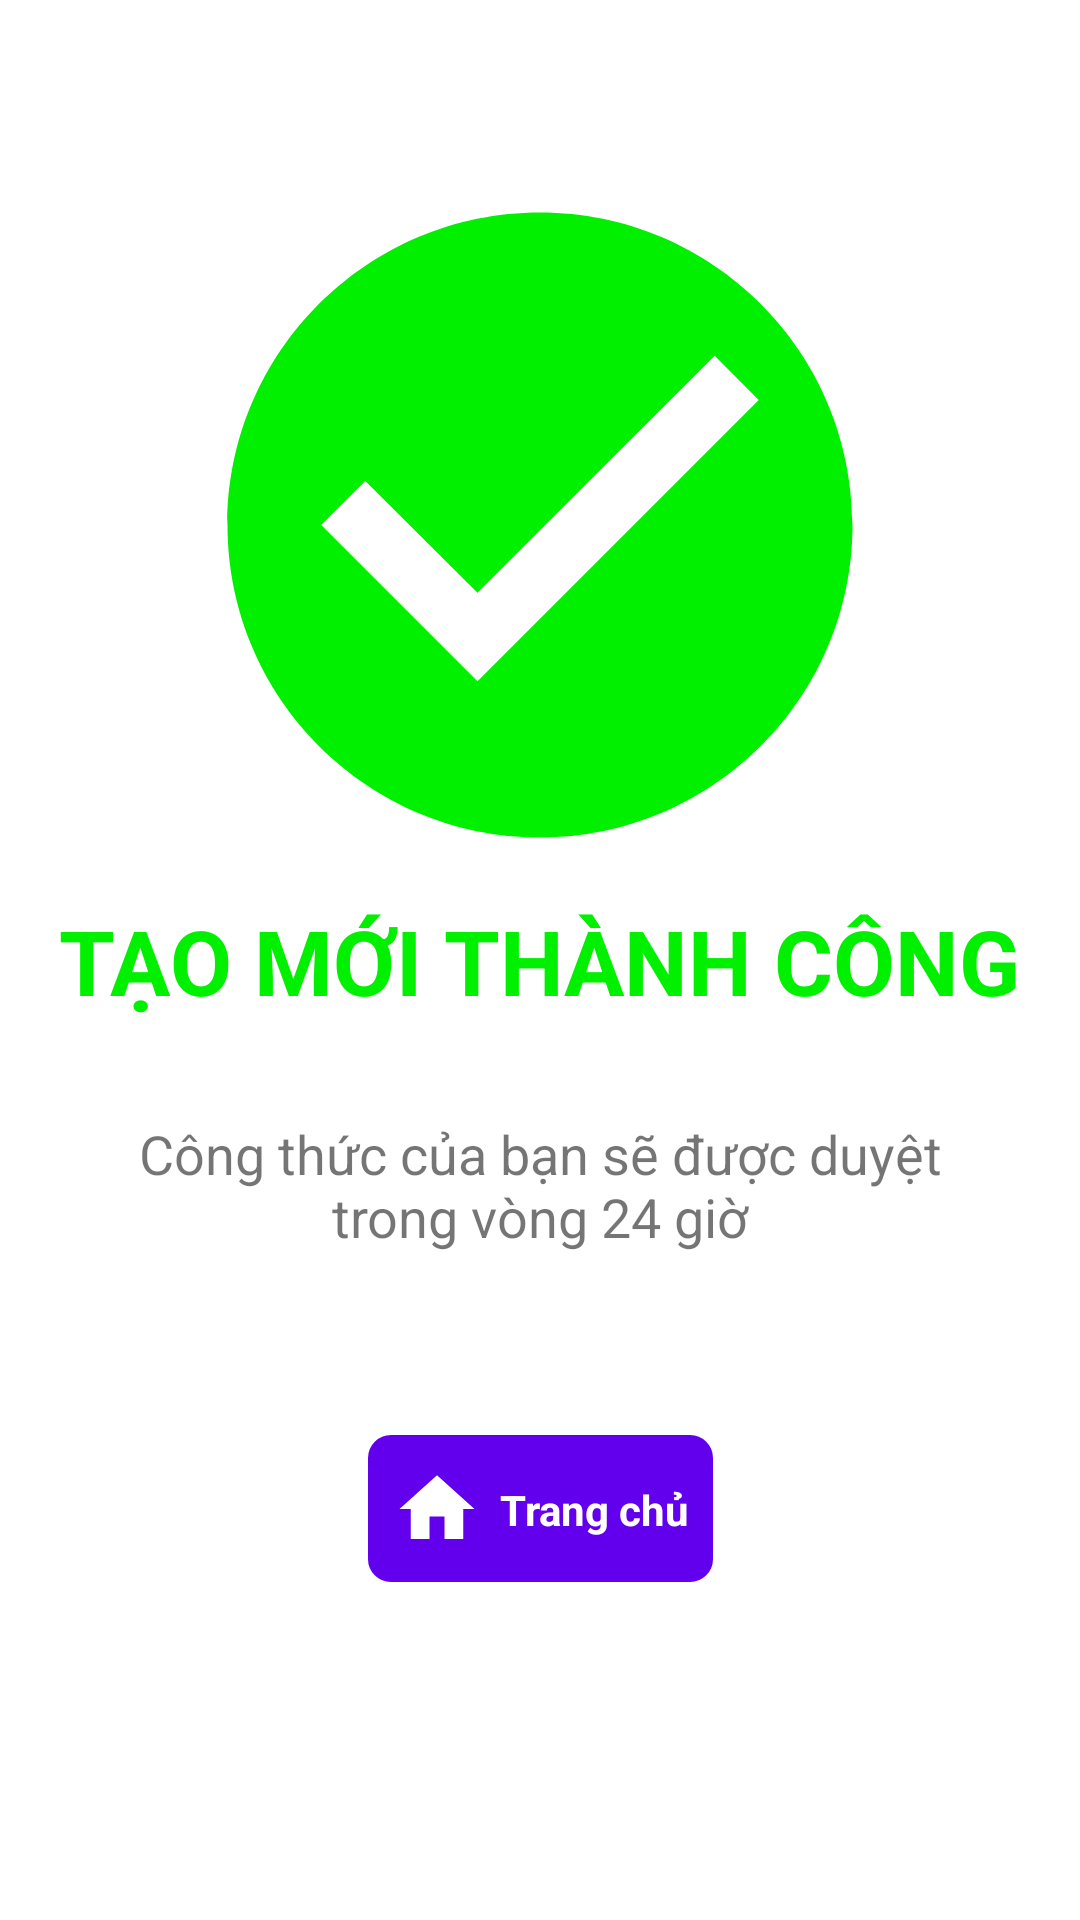

Named icons in this screenshot (1080px x 1920px) and their bounding boxes, bbox=[x1, y1, x2, y2]:
home: bbox=[400, 1475, 474, 1539]
